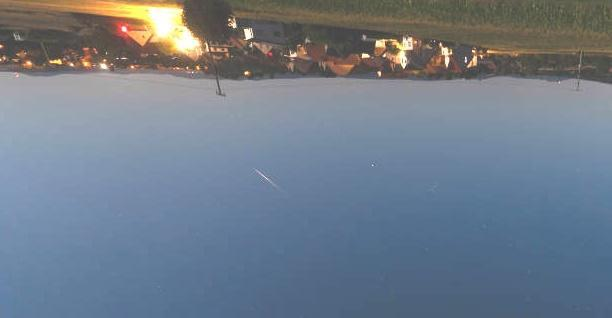meteorite: (238, 168, 294, 188)
